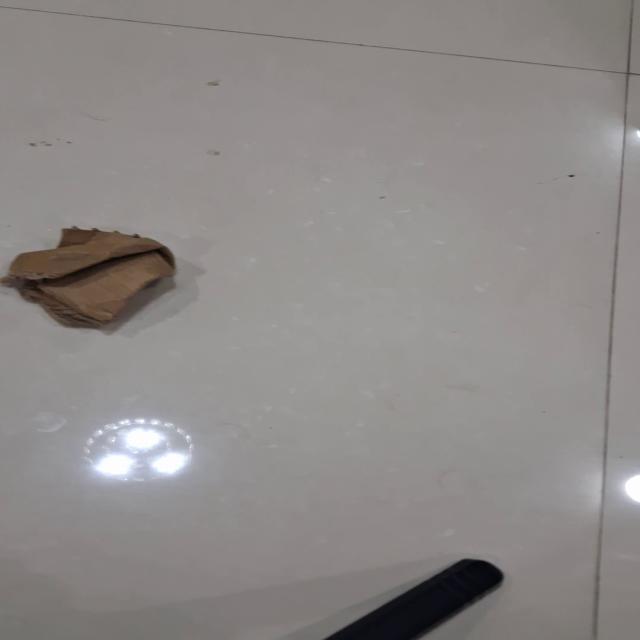paper: (5, 225, 176, 328)
